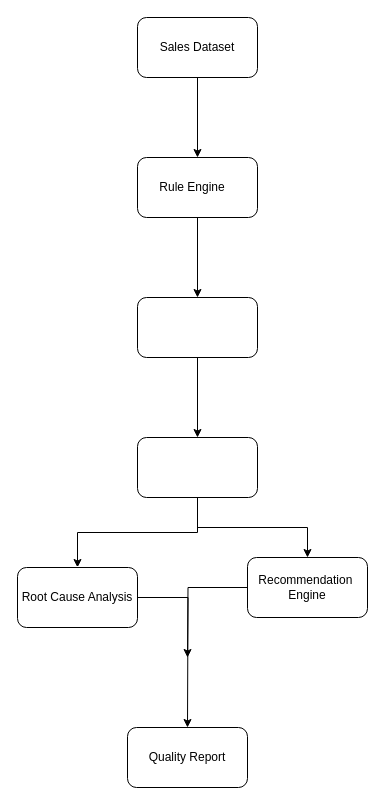
Some shapes in this 385 by 805 pixel diagram are drawn without their labels. The centre of each missing label's shape, as x and y in pixels:
"AI Copilot" goes at point 197,467.
"Issue Detection" goes at point 197,327.
